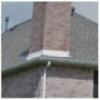chimneys: (30, 1, 71, 55)
